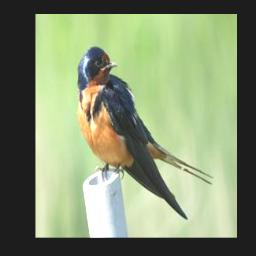Swallow: (76, 43, 213, 217)
